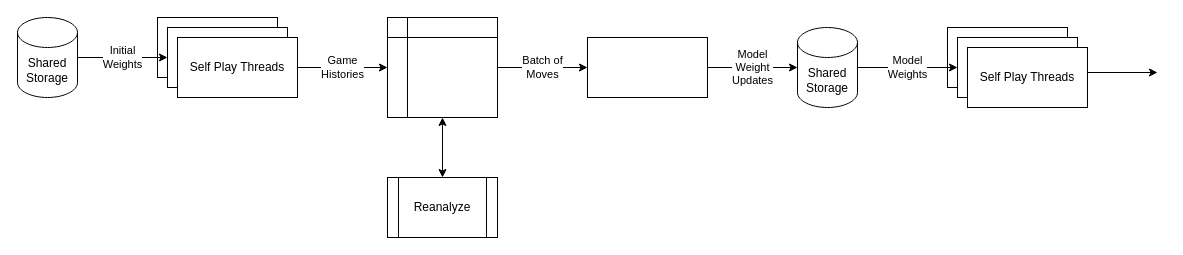
Some shapes in this 1183 by 255 pixel diagram are drawn without their labels. The shapes that lost their labels are listed below. From the top down, each one's box as (x1, y1, x2, y2) in pixels, then its label:
(386, 16, 498, 118): Replay Buffer
(586, 36, 708, 98): Training Thread
